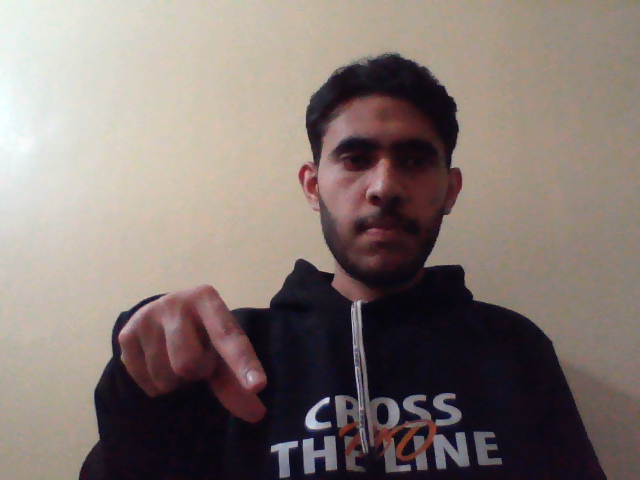Q: (105, 276, 279, 430)
